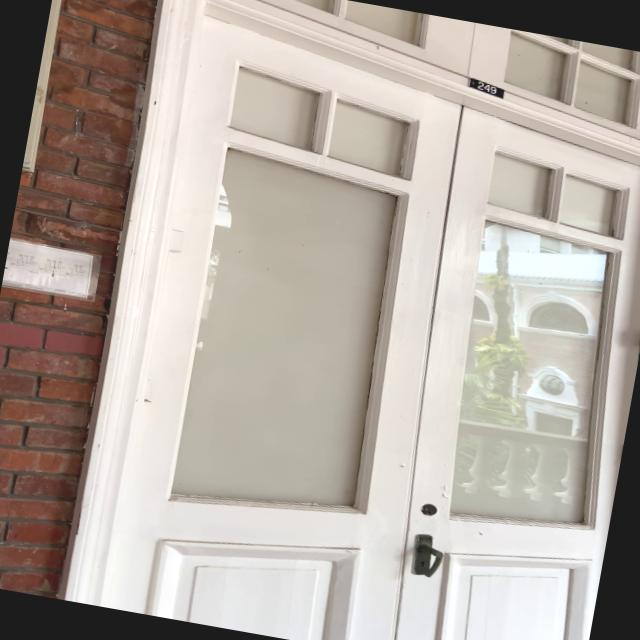room249: (458, 72, 512, 102)
